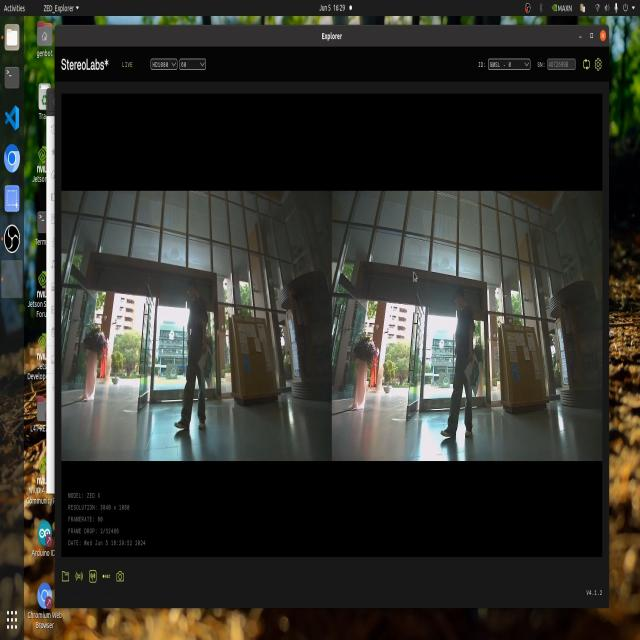green: (465, 357, 484, 395), (202, 349, 215, 384)
